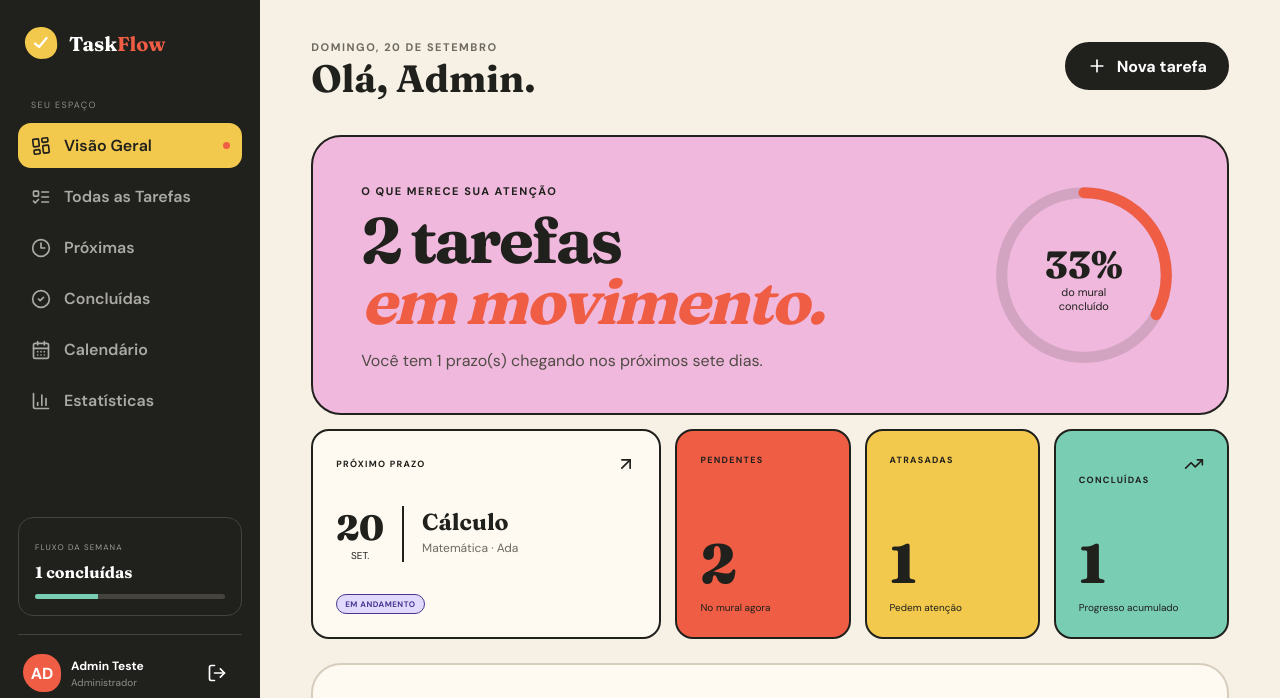
App tarefas e visualizações › carrega filtros e todas as visualizações
Expected: the text "Admin Teste" is shown, [71,658,144,674]
Expected: the heading "2 tarefas" is shown, [361,210,823,332]
Click the button "Próximas" at (130, 248), box [18,225,242,270]
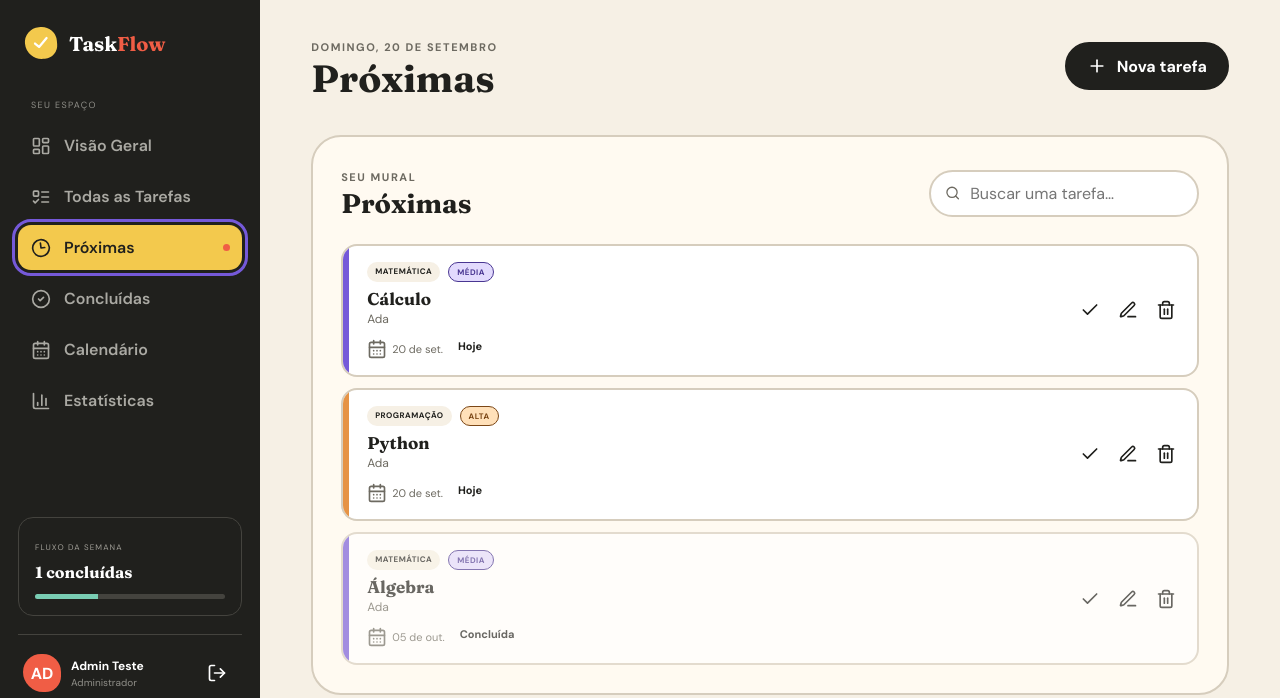
Click the button "Concluídas" at (130, 298), box [18,276,242,321]
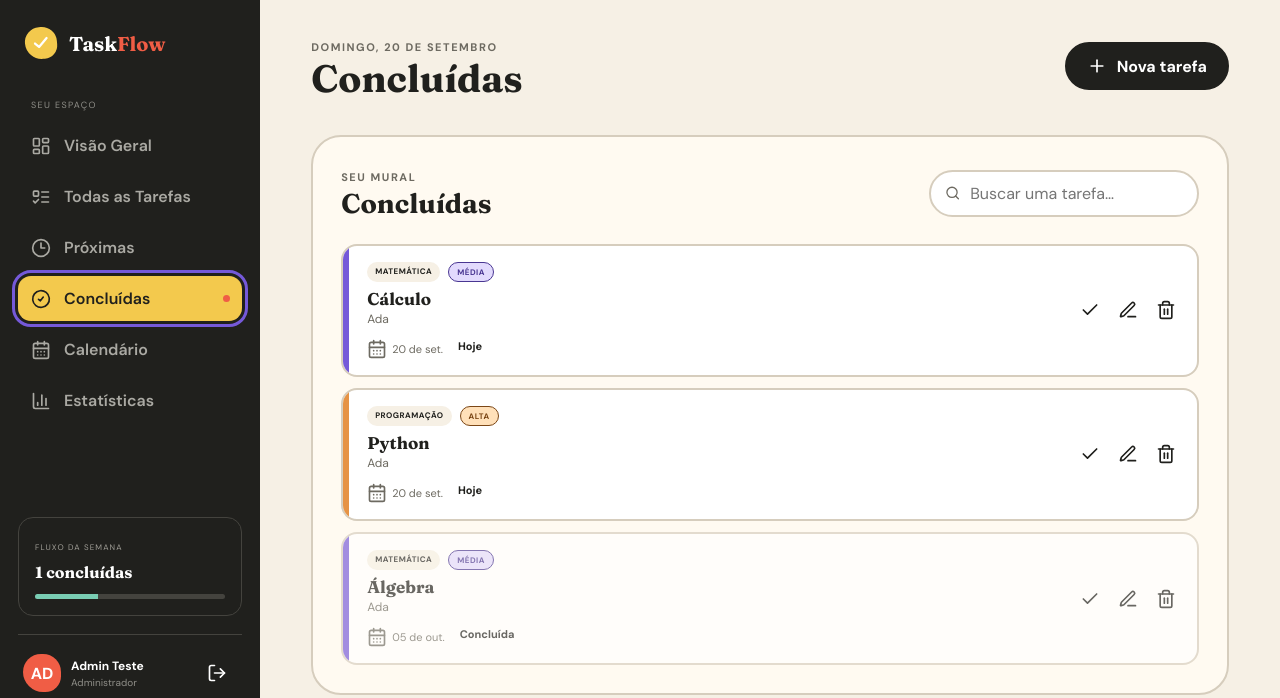
Click the button "Todas as Tarefas" at (130, 196), box [18,174,242,219]
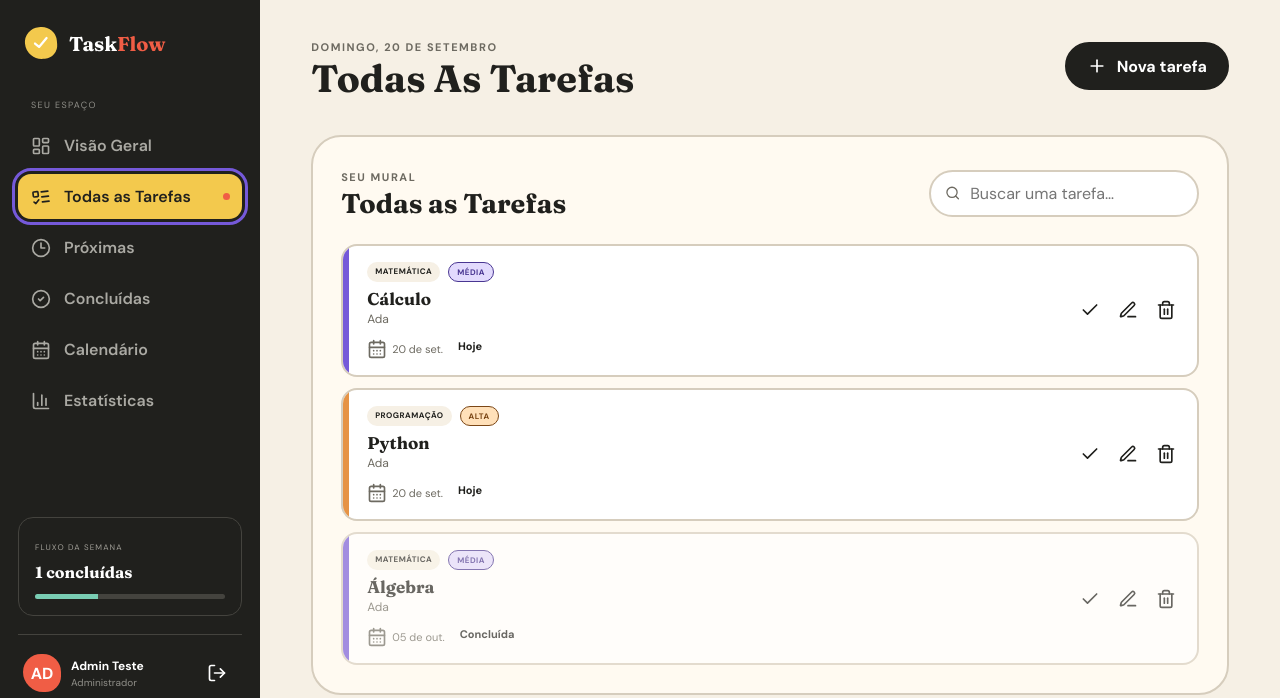
Click the button "Estatísticas" at (130, 400), box [18,378,242,423]
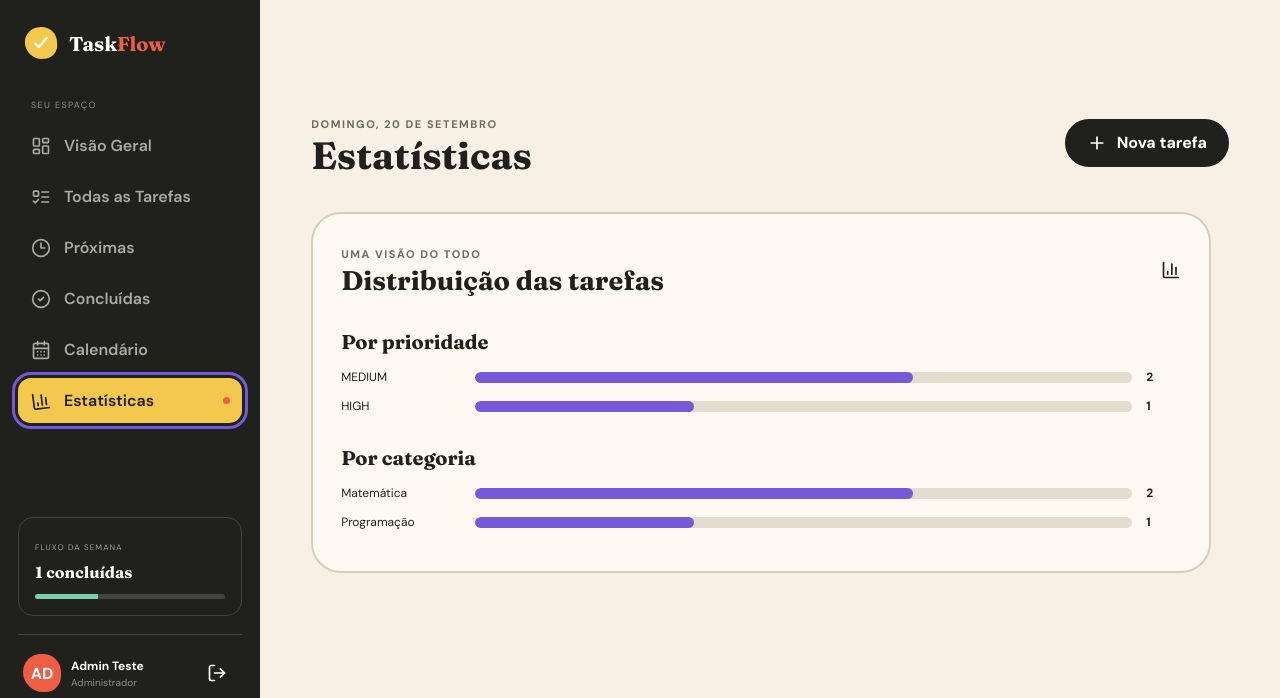
Expected: the text "Programação" is shown, [341,514,415,530]
Now the heading "Por prioridade" is shown, box [341,329,488,354]
